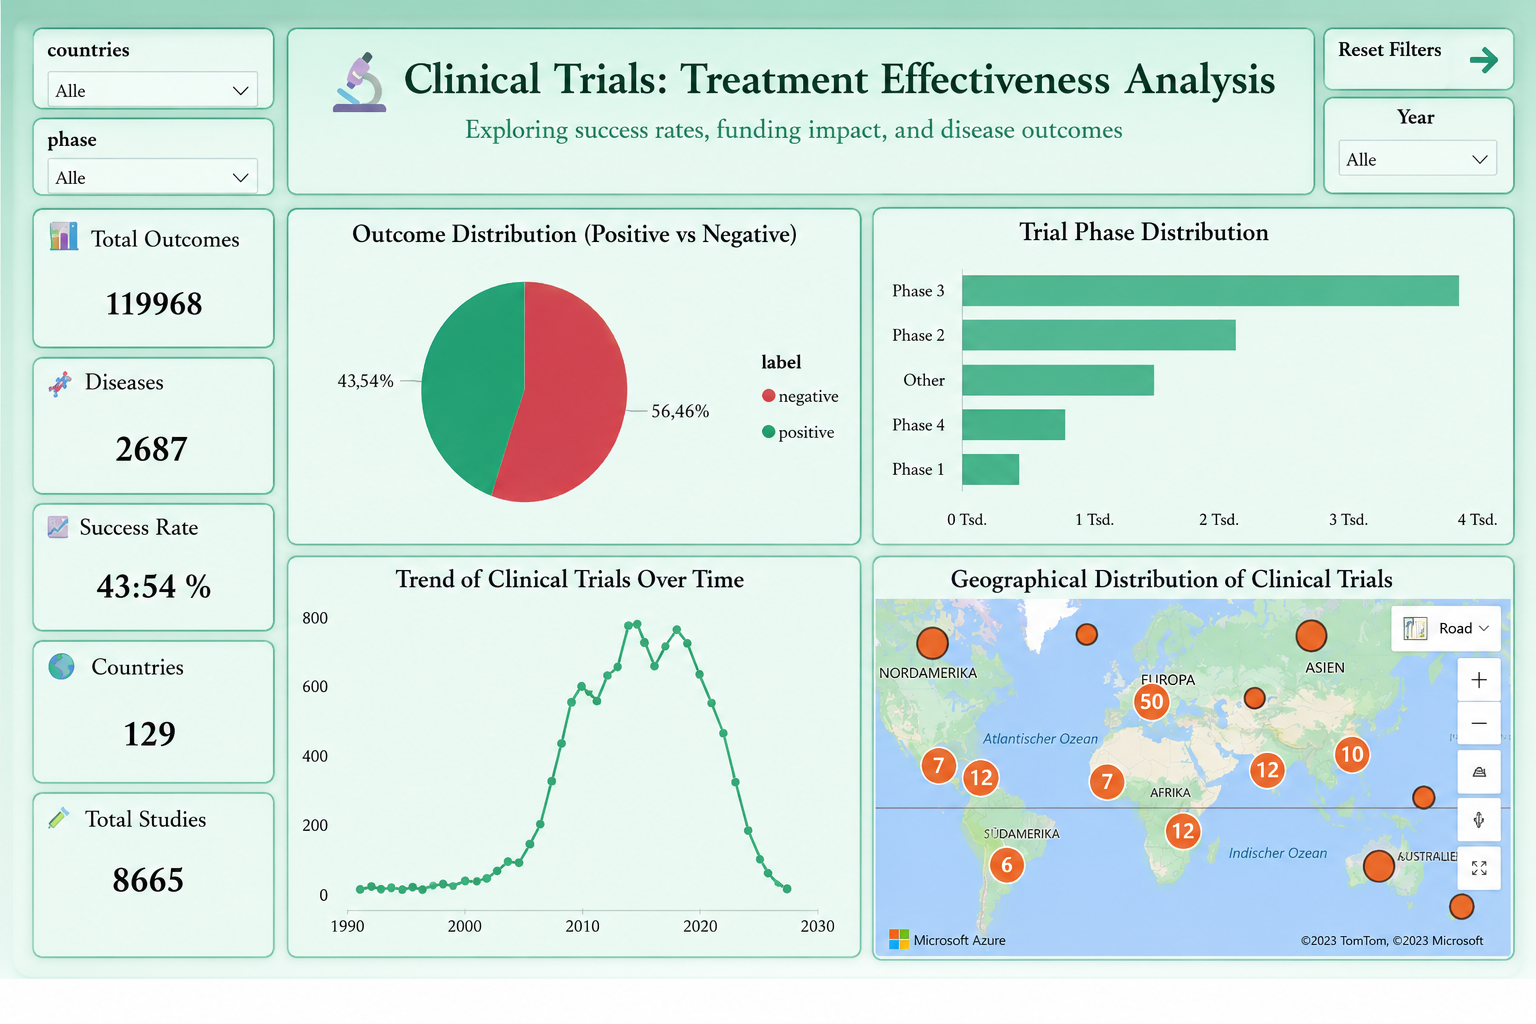

The dashboard page shown, as its layout file describes it:
{"tool":"powerbi","page":{"name":"Überblick: Klinische Studien im Fokus","canvas":[1280,720],"ordinal":0},"visuals":[{"type":"cardVisual","title":"📊Total Outcomes","fields":{"Data":["_Measures.Anzahl Ergebnisse"]},"box":[14.1,135.6,219.5,110],"z":0},{"type":"cardVisual","title":" 🧬 Diseases","fields":{"Data":["_Measures.Anzahl Krankheiten"]},"box":[14.1,252.9,219.5,110.3],"z":1000},{"type":"cardVisual","title":"🌍 Countries","fields":{"Data":["_Measures.Anzahl Laender"]},"box":[14.1,487.5,219.5,110.3],"z":2000},{"type":"cardVisual","title":"🧪 Total Studies","fields":{"Data":["_Measures.Anzahl Studien"]},"box":[14.1,604.8,219.5,110.3],"z":3000},{"type":"cardVisual","title":"📈 Success Rate","fields":{"Data":["_Measures.Erfolgsrate"]},"box":[14.1,370.2,219.5,110.3],"z":4000},{"type":"pieChart","title":"Outcome Distribution (Positive vs Negative)","fields":{"Y":["_Measures.Anzahl Ergebnisse"],"Category":["fakt_studienergebnis.label"]},"box":[240,135.6,495.6,264.4],"z":5000},{"type":"barChart","title":"Trial Phase Distribution","fields":{"Category":["dim_studie.Phase Clean"],"Y":["_Measures.Anzahl Studien"]},"box":[741,135.6,521.1,264.4],"z":6000},{"type":"lineChart","title":"Trend of Clinical Trials Over Time","fields":{"Category":["dim_studie.completion_year"],"Y":["_Measures.Anzahl Studien"]},"box":[240,405.6,495.6,310],"z":7000},{"type":"actionButton","title":"Reset Filters","box":[1079.1,0,127.9,47.3],"z":8000},{"type":"textbox","box":[239.7,0,834,124.7],"z":9000},{"type":"actionButton","box":[1210,0,70,40],"z":10000},{"type":"azureMap","title":"Geographical Distribution of Clinical Trials","fields":{"Category":["dim_land.land"],"Size":["_Measures.Total Studies"]},"box":[741,405.6,521.1,308.9],"z":11000},{"type":"slicer","title":"countries","fields":{"Values":["dim_land.land"]},"box":[13.8,0,219,62.7],"z":12000},{"type":"slicer","title":"Year","fields":{"Values":["dim_year.completion_year"]},"box":[1079,49.4,182.7,75.2],"z":13000},{"type":"slicer","title":"phase","fields":{"Values":["dim_studie.Phase Clean"]},"box":[13.8,62.7,219,61.7],"z":14000}]}

Visuals, with their boxes on the page's 1280x720 design canvas (x1, y1, x2, y2). These are canvas units, not pixel positions in the 1536x1024 screenshot, which may show the page scaled, cropped or inside an application window:
"📊Total Outcomes" cardVisual: (left=14, top=136, right=234, bottom=246)
" 🧬 Diseases" cardVisual: (left=14, top=253, right=234, bottom=363)
"🌍 Countries" cardVisual: (left=14, top=488, right=234, bottom=598)
"🧪 Total Studies" cardVisual: (left=14, top=605, right=234, bottom=715)
"📈 Success Rate" cardVisual: (left=14, top=370, right=234, bottom=480)
"Outcome Distribution (Positive vs Negative)" pieChart: (left=240, top=136, right=736, bottom=400)
"Trial Phase Distribution" barChart: (left=741, top=136, right=1262, bottom=400)
"Trend of Clinical Trials Over Time" lineChart: (left=240, top=406, right=736, bottom=716)
"Reset Filters" actionButton: (left=1079, top=0, right=1207, bottom=47)
textbox: (left=240, top=0, right=1074, bottom=125)
actionButton: (left=1210, top=0, right=1280, bottom=40)
"Geographical Distribution of Clinical Trials" azureMap: (left=741, top=406, right=1262, bottom=714)
"countries" slicer: (left=14, top=0, right=233, bottom=63)
"Year" slicer: (left=1079, top=49, right=1262, bottom=125)
"phase" slicer: (left=14, top=63, right=233, bottom=124)
